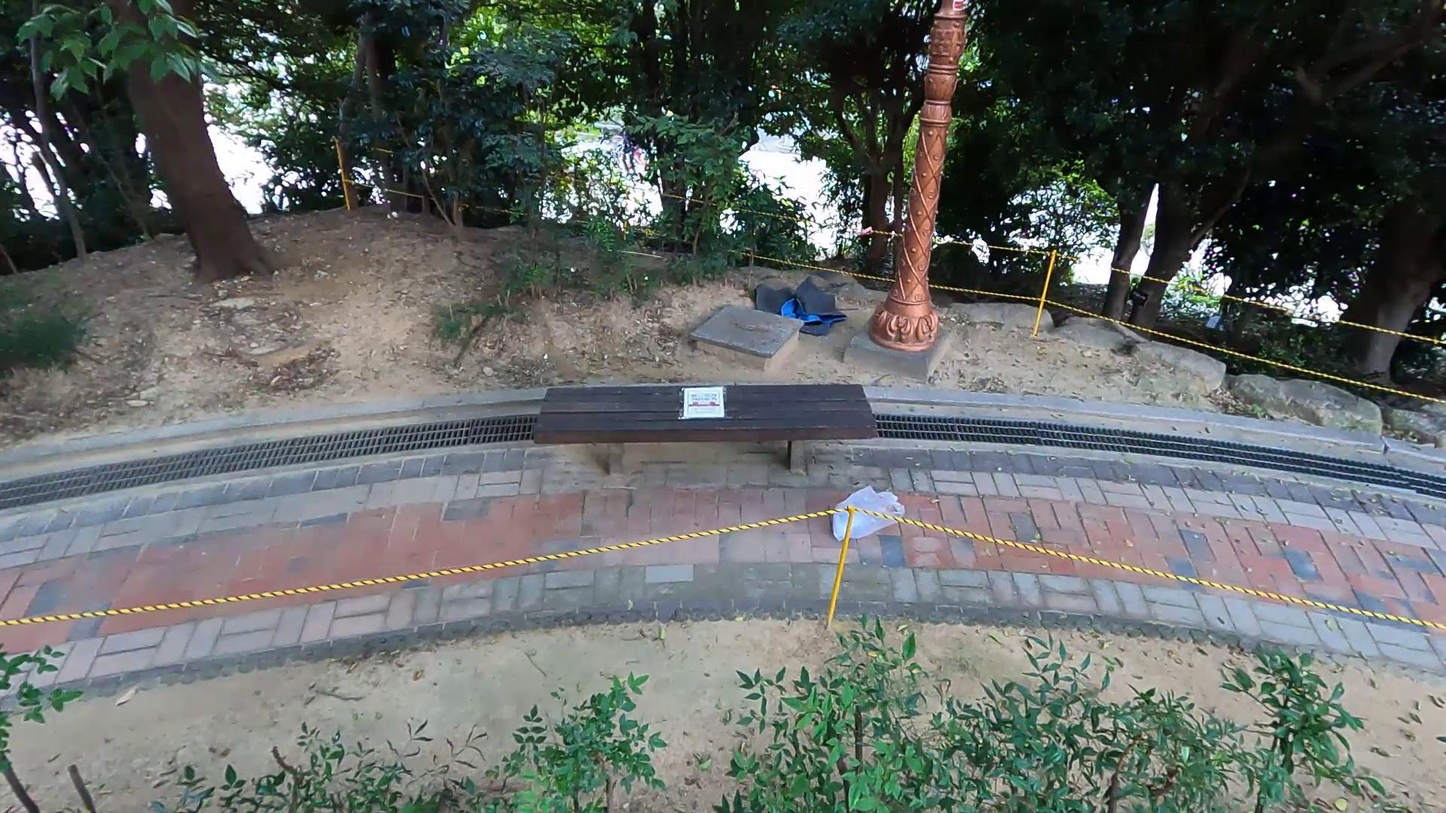trash: (746, 279, 850, 339), (832, 484, 907, 544)
